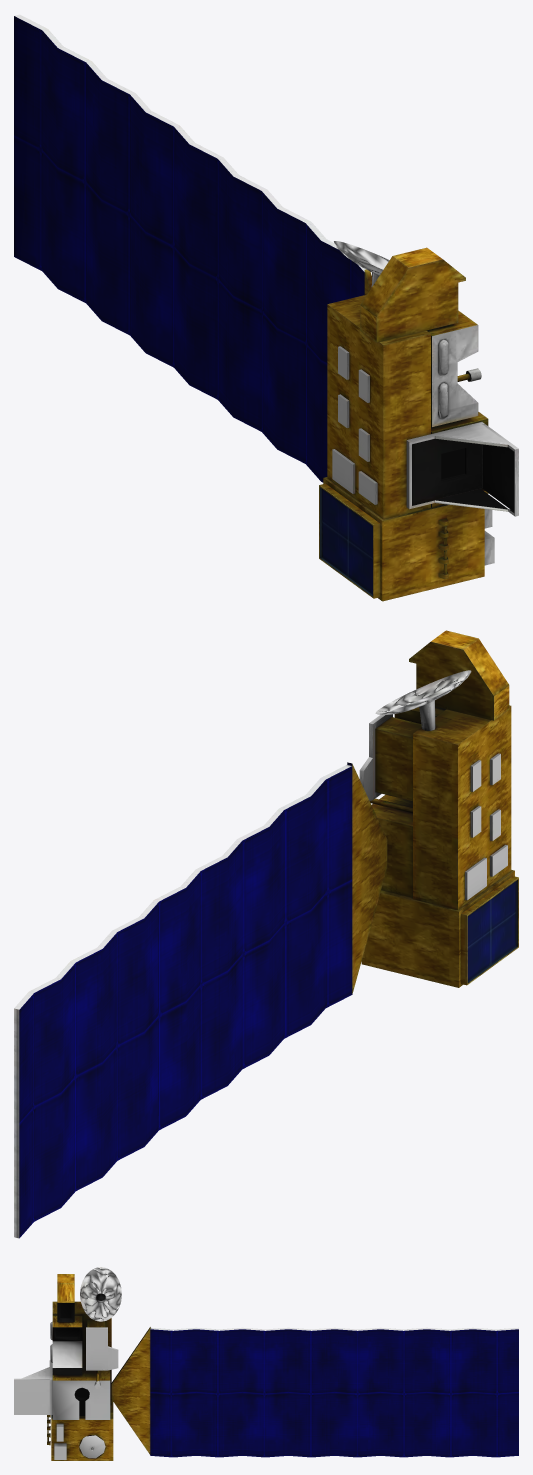
Rendered from aura.glb.
3 renders of one model, top to bottom at view 1: azimuth 30°, elevation 25°; view 2: azimuth 150°, elevation 25°; view 3: azimuth 270°, elevation 25°, orthographic. The views are drawn at different scales.
Parts seen in each view (by area): view 1: aura_uv.la; view 2: aura_uv.la; view 3: aura_uv.la.
Part boxes in pixels (x1=…): aura_uv.la: x1=14, y1=14, x2=518, y2=601; aura_uv.la: x1=14, y1=630, x2=518, y2=1238; aura_uv.la: x1=14, y1=1267, x2=518, y2=1460.
Size of the model in its own units: 8.98 by 18.99 by 50.82.
Materials: 8 (8 with a texture image).
